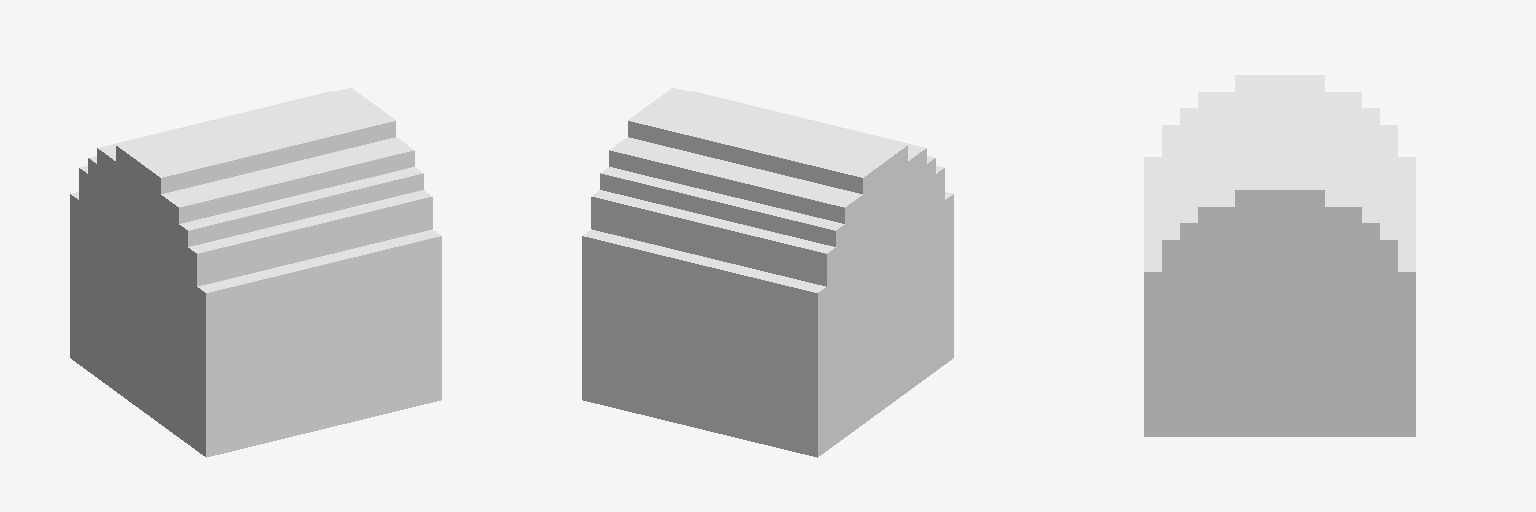
File: TVS_VoxelKnights_Chest.obj
The picture shows the model from 3 angles: view 1: azimuth 30°, elevation 25°; view 2: azimuth 150°, elevation 25°; view 3: azimuth 270°, elevation 25°; orthographic projection.
Visible parts, largest first — view 1: ObjObject.005; view 2: ObjObject.005; view 3: ObjObject.005.
Part boxes in pixels (bbox=[...]): ObjObject.005: bbox=[70, 88, 441, 457]; ObjObject.005: bbox=[582, 88, 953, 457]; ObjObject.005: bbox=[1144, 75, 1415, 436].
Size of the model in its own units: 1.5 by 1.5 by 1.5.